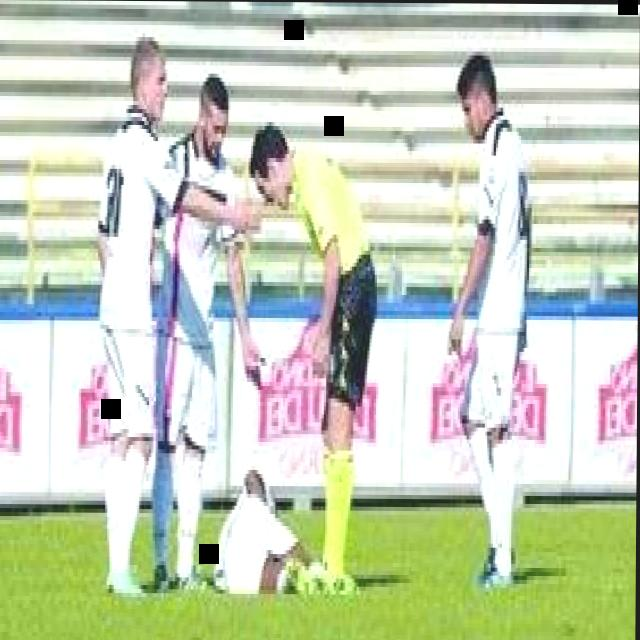Fall-Detected: (201, 445, 374, 598)
